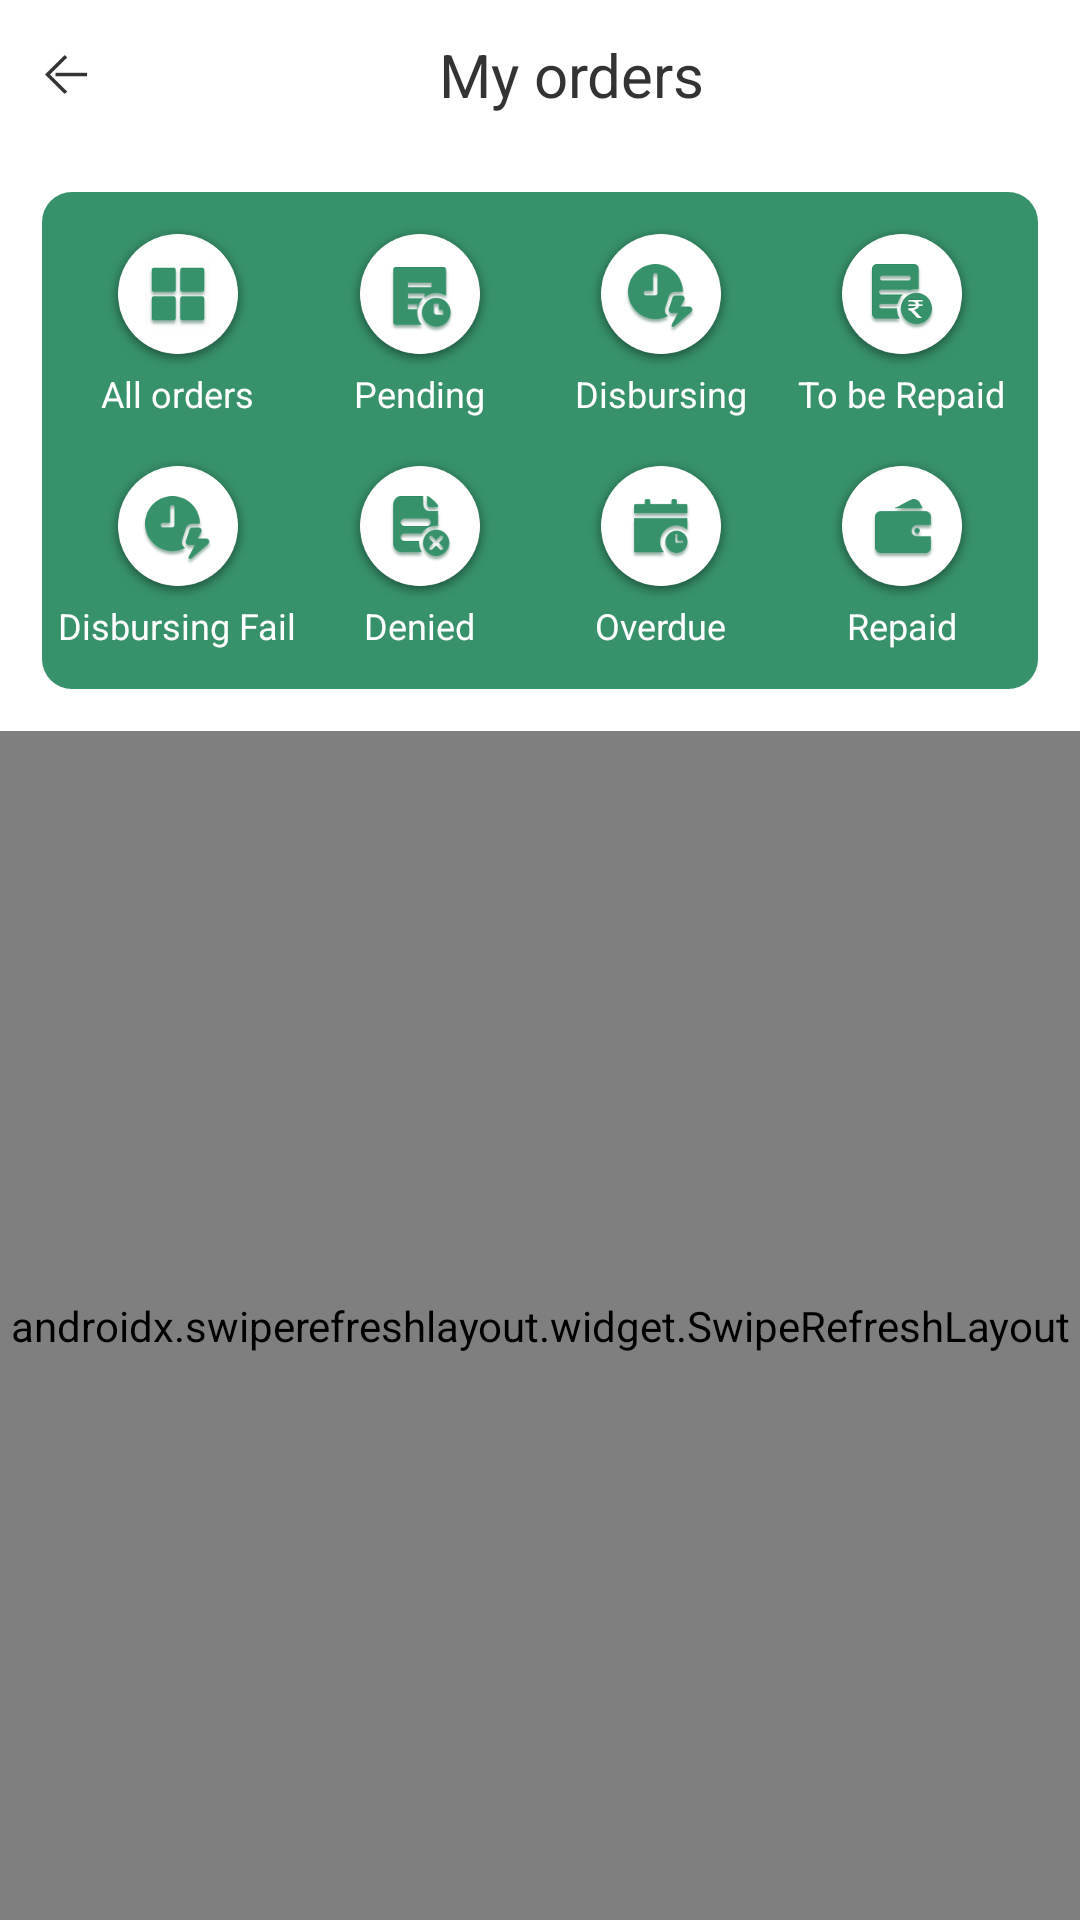

Screen size 1080×1920. Icon name, then its center in pixels as (x=x, y=y):
balckback: (x=66, y=74)
